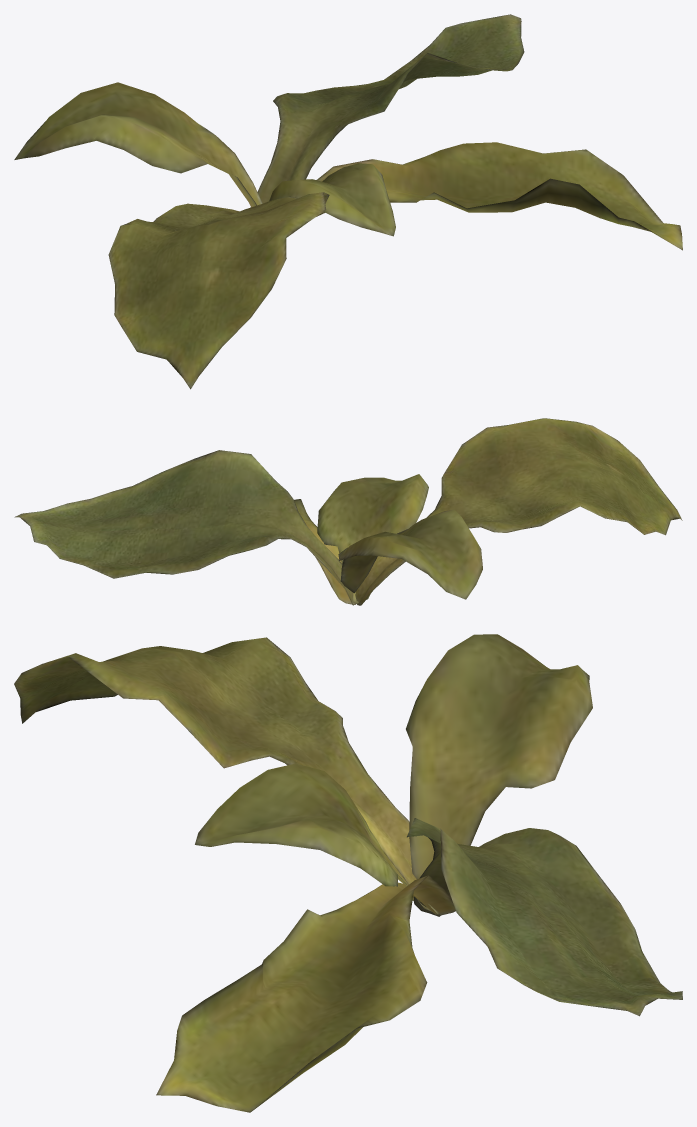
File: crystalline_iceplant_f.gltf
3 views of the same model, one above another, from view 1: azimuth 30°, elevation 25°; view 2: azimuth 150°, elevation 25°; view 3: azimuth 270°, elevation 25° (orthographic). The views are drawn at different scales.
Visible parts, largest first — view 1: crystalline_iceplant_f_LOD0; view 2: crystalline_iceplant_f_LOD0; view 3: crystalline_iceplant_f_LOD0.
Boxes of the visible parts, x1,y1,x2,y2 form: crystalline_iceplant_f_LOD0: (14,14,682,389); crystalline_iceplant_f_LOD0: (14,418,682,605); crystalline_iceplant_f_LOD0: (14,634,682,1112).
Size of the model in its own units: 0.1117 by 0.0279 by 0.0876.
Materials: 1 (1 with a texture image).
